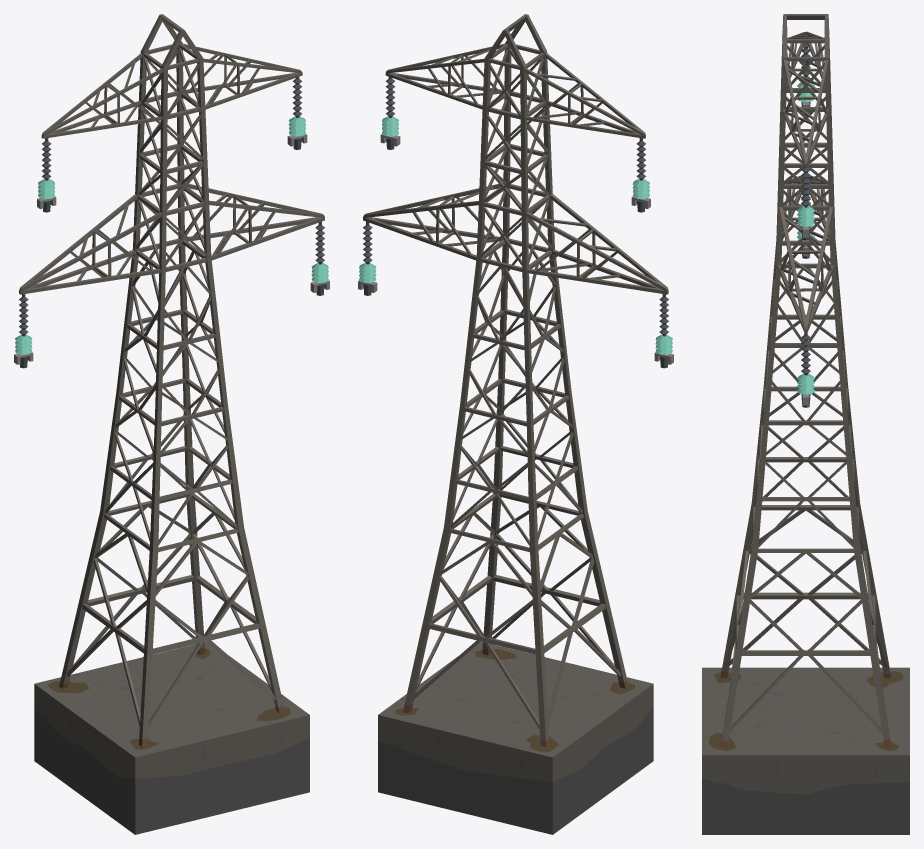
The model's file is SM_Bld_Pylon_01.obj.
The picture shows the model from 3 angles, left to right: view 1: azimuth 30°, elevation 25°; view 2: azimuth 150°, elevation 25°; view 3: azimuth 270°, elevation 25°; orthographic projection. The views are drawn at different scales.
Visible parts, largest first — view 1: SM_Bld_Pylon_01_0; view 2: SM_Bld_Pylon_01_0; view 3: SM_Bld_Pylon_01_0.
Boxes of the visible parts, box(x1,y1,x2,y2) form: SM_Bld_Pylon_01_0: box(14, 14, 329, 834); SM_Bld_Pylon_01_0: box(358, 14, 673, 834); SM_Bld_Pylon_01_0: box(702, 14, 909, 834).
Size of the model in its own units: 14.36 by 33.11 by 8.03.
1 material, 1 textured.
